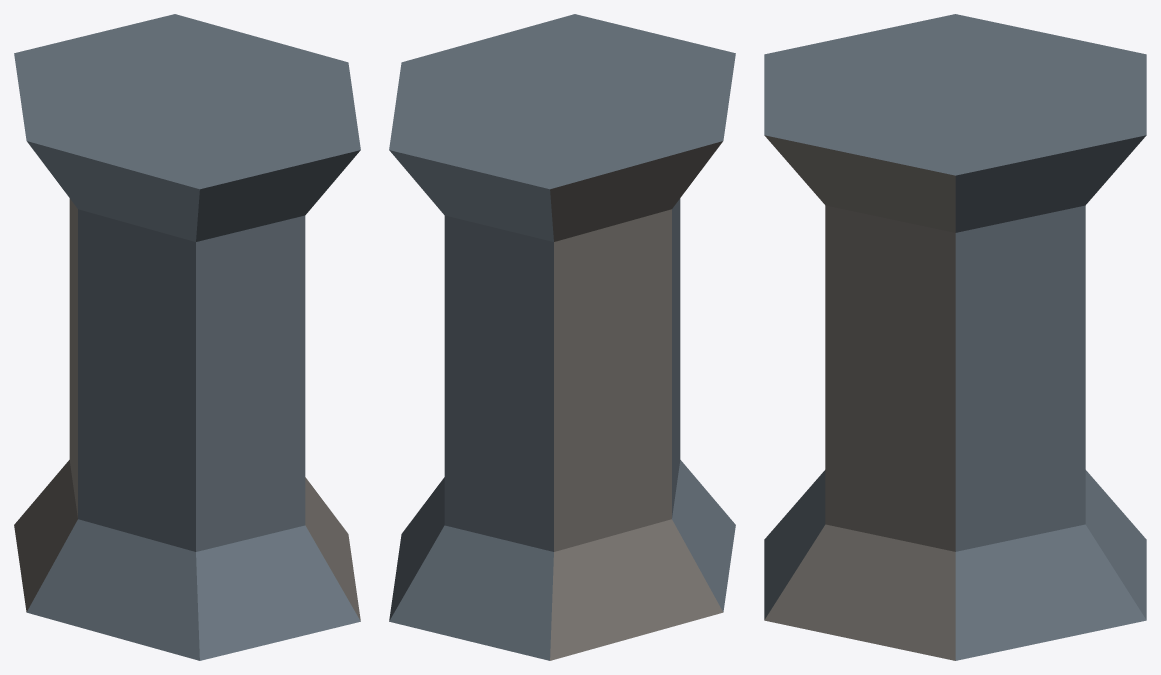
File: thread_spool.glb
The picture shows the model from 3 angles, left to right: view 1: azimuth 30°, elevation 25°; view 2: azimuth 150°, elevation 25°; view 3: azimuth 270°, elevation 25°; orthographic projection. The views are drawn at different scales.
Parts seen in each view (by area): view 1: thread_spool; view 2: thread_spool; view 3: thread_spool.
Part boxes in pixels (<box>): thread_spool: <box>14,14,360,660</box>; thread_spool: <box>389,14,735,660</box>; thread_spool: <box>764,14,1146,660</box>.
Bounding box in the file's own units: 0.05 × 0.07 × 0.05.
